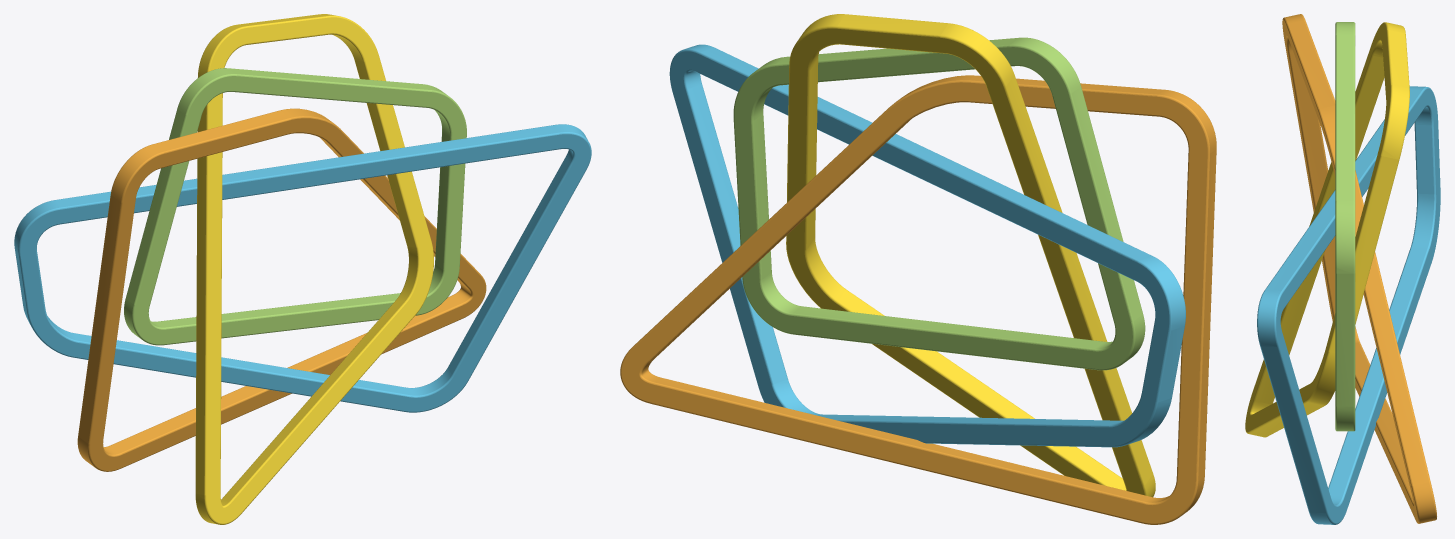
Rendered from ydw_glTF.gltf.
3 renders of one model, left to right at view 1: azimuth 30°, elevation 25°; view 2: azimuth 150°, elevation 25°; view 3: azimuth 270°, elevation 25°, orthographic. The views are drawn at different scales.
Parts seen in each view (by area): view 1: Deckfläche 1 (×4), Rundung 1 (×4), Extrudieren.1, Extrudieren.2, Extrudieren, Extrudieren.3, Rundung 2; view 2: Deckfläche 2 (×4), Rundung 2 (×4), Extrudieren, Extrudieren.1, Extrudieren.3, Extrudieren.2, Rundung 1 (×2); view 3: Extrudieren.1, Extrudieren.2, Extrudieren, Extrudieren.3, Deckfläche 2, Rundung 2 (×4), Rundung 1 (×4), Deckfläche 1 (×2).
Part boxes in pixels (x1,y1,x2,y2): Deckfläche 1 (×4): (20,17,590,523); Rundung 1 (×4): (18,15,591,524); Extrudieren.1: (14,124,587,395); Extrudieren.2: (78,108,471,467); Extrudieren: (195,14,417,524); Extrudieren.3: (124,68,450,338); Rundung 2: (77,108,461,452); Deckfläche 2 (×4): (621,28,1207,523); Rundung 2 (×4): (620,26,1209,524); Extrudieren: (797,14,1155,497); Extrudieren.1: (685,44,1185,444); Extrudieren.3: (753,37,1144,361); Extrudieren.2: (642,75,1216,515); Rundung 1 (×2): (700,14,1185,490); Extrudieren.1: (1258,86,1434,524); Extrudieren.2: (1284,14,1435,523); Extrudieren: (1249,22,1408,437); Extrudieren.3: (1337,22,1353,431); Deckfläche 2: (1276,88,1440,523); Rundung 2 (×4): (1266,14,1440,524); Rundung 1 (×4): (1245,17,1419,523); Deckfläche 1 (×2): (1245,19,1417,522).
Bounding box in the file's own units: 182 × 150 × 58.92.
